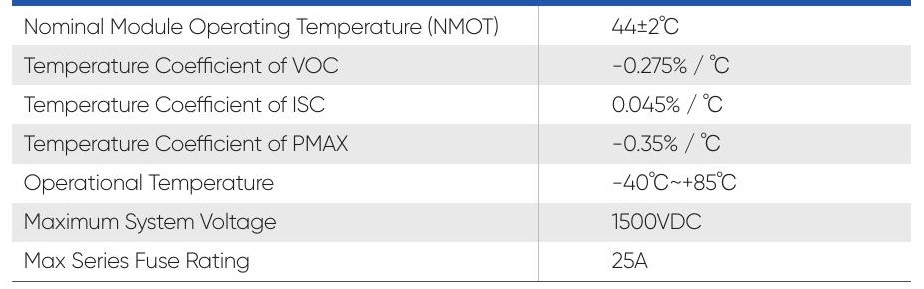table: (3, 2, 924, 289)
table column: (10, 5, 532, 286), (545, 2, 911, 284)
table row: (7, 47, 916, 83), (7, 8, 914, 44), (6, 129, 918, 164), (7, 168, 919, 203), (8, 244, 919, 279), (7, 87, 915, 121), (7, 207, 919, 240)
